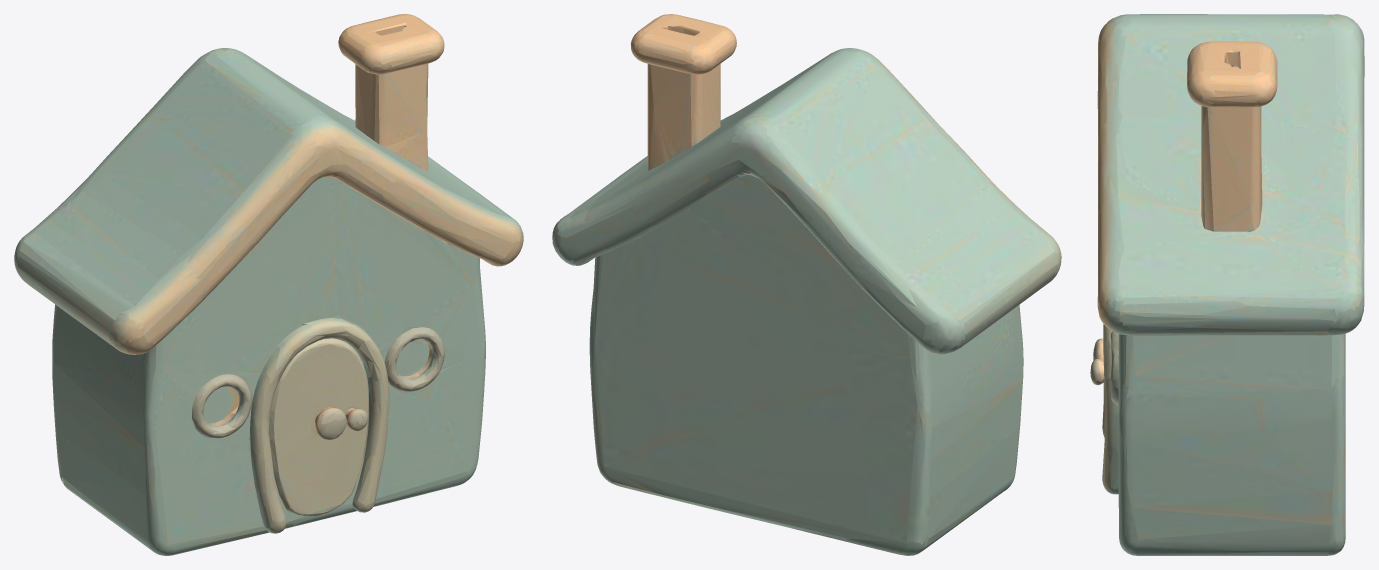
Rendered from house.80af4042.glb.
The picture shows the model from 3 angles, left to right: view 1: azimuth 30°, elevation 25°; view 2: azimuth 150°, elevation 25°; view 3: azimuth 270°, elevation 25°; orthographic projection. The views are drawn at different scales.
Visible parts, largest first — view 1: output_unwrapped; view 2: output_unwrapped; view 3: output_unwrapped.
Part boxes in pixels (x1=…): output_unwrapped: x1=14, y1=14, x2=523, y2=555; output_unwrapped: x1=552, y1=14, x2=1061, y2=555; output_unwrapped: x1=1090, y1=14, x2=1364, y2=555.
Bounding box in the file's own units: 1.9 × 1.9 × 0.9765.
Materials: 1 (1 with a texture image).
